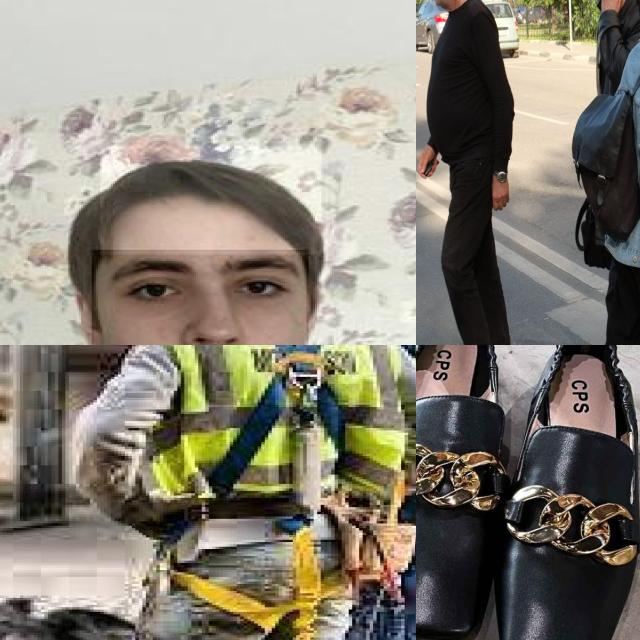Harness: (209, 345, 345, 496)
No_Ear-Protection: (70, 290, 124, 345)
No_Glasses: (109, 231, 304, 327)
Sandals: (416, 345, 640, 640)
face_nomask: (91, 250, 308, 345)
head_nohelmet: (100, 146, 322, 254)
person: (0, 132, 416, 345)
